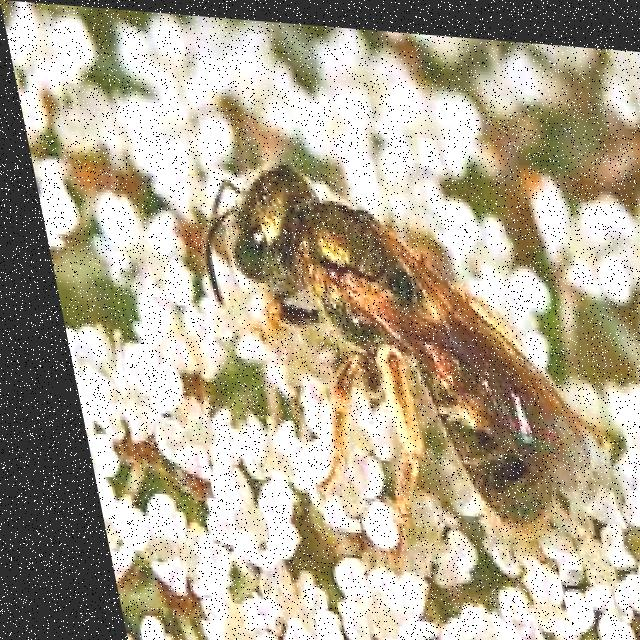Seladonia: (176, 140, 579, 542)
